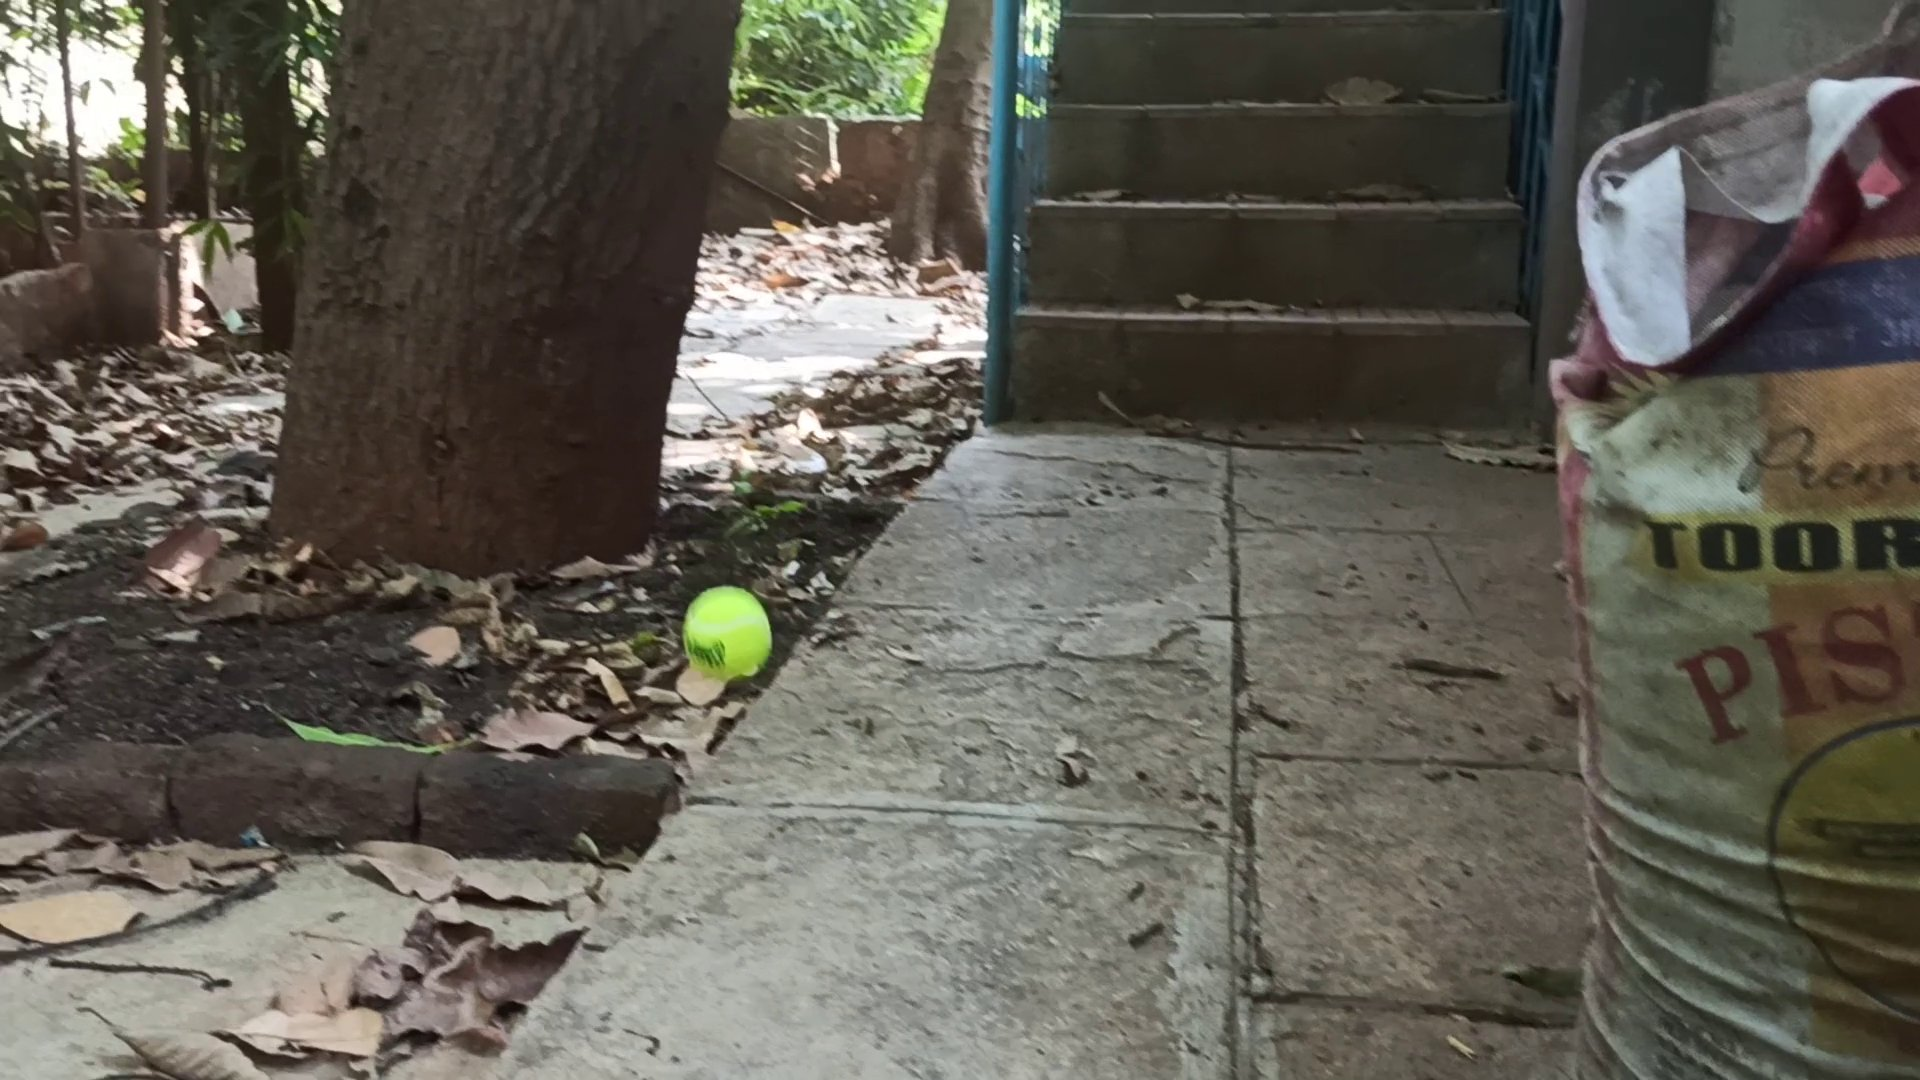Tennis-Ball: (683, 585, 771, 678)
